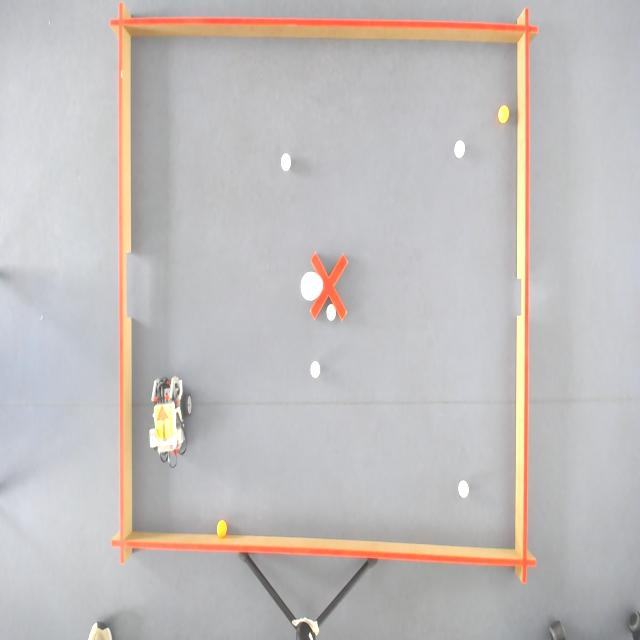cross: (309, 251, 349, 323)
egg: (299, 268, 325, 303)
orange_ball: (498, 104, 510, 124), (216, 518, 228, 538)
robot: (154, 404, 174, 444)
white_ball: (452, 138, 467, 160), (457, 478, 470, 501), (309, 358, 322, 380), (325, 302, 338, 323), (280, 152, 292, 174)
